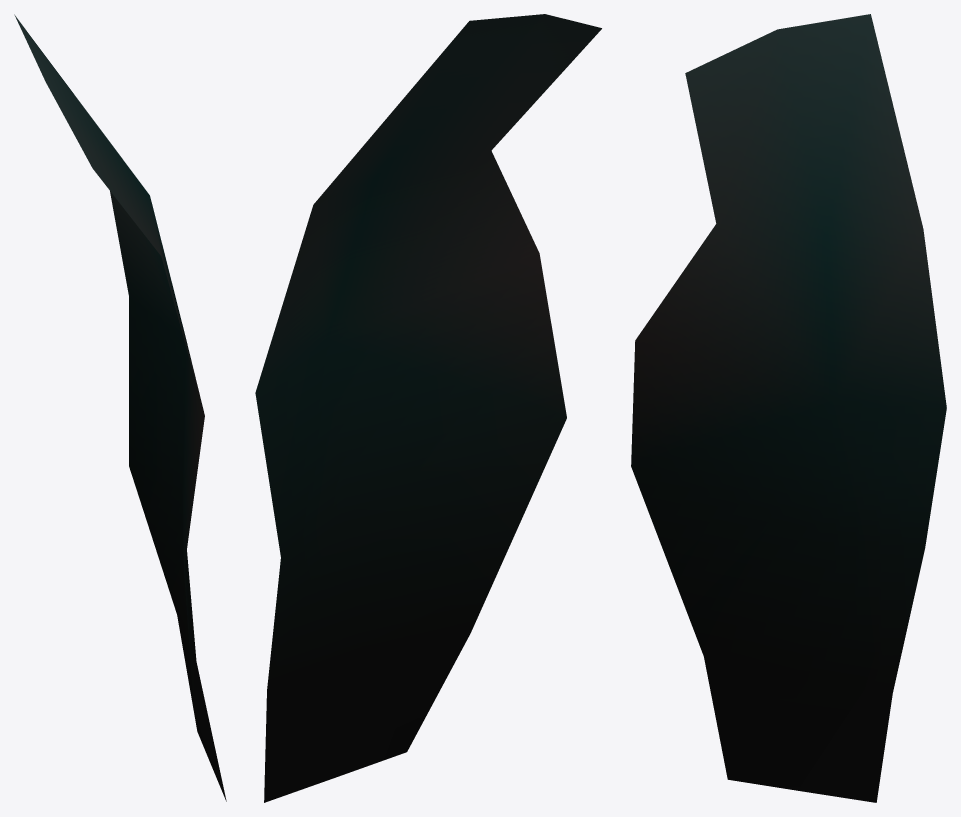
File: TSI_Plant_12A.fbx
3 renders of one model, left to right at view 1: azimuth 30°, elevation 25°; view 2: azimuth 150°, elevation 25°; view 3: azimuth 270°, elevation 25°, orthographic. The views are drawn at different scales.
Parts seen in each view (by area): view 1: TSI_Plant_12A_LOD0; view 2: TSI_Plant_12A_LOD0; view 3: TSI_Plant_12A_LOD0.
Boxes of the visible parts, left/top/right/bottom form: TSI_Plant_12A_LOD0: left=14, top=14, right=226, bottom=801; TSI_Plant_12A_LOD0: left=255, top=14, right=601, bottom=802; TSI_Plant_12A_LOD0: left=631, top=14, right=946, bottom=802.
Size of the model in its own units: 26.24 by 91.94 by 37.31.
